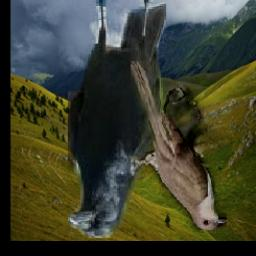Crow: (68, 0, 166, 238)
Cuckoo: (131, 61, 227, 230)
